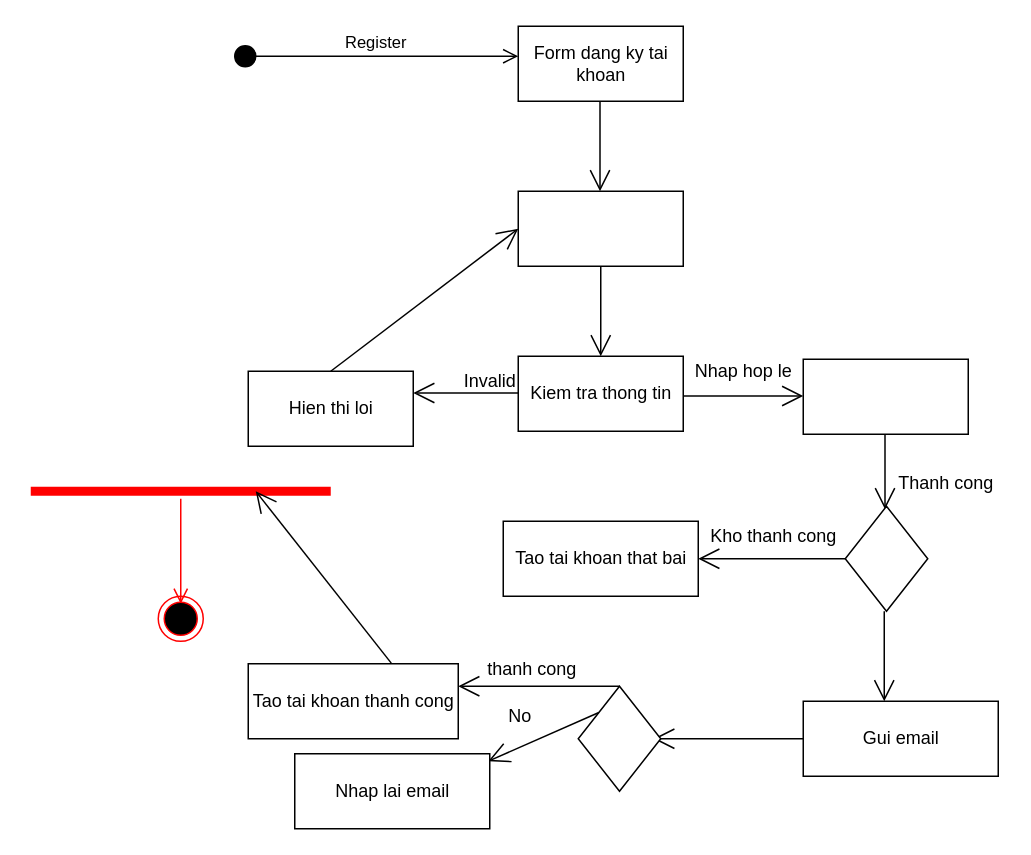
Image size: 1031x855. Some labels were removed from this diagram. The shapes that lost their labels are listed below. From the top down, each one's centre as x and y in pixels, then its label:
At (x=600, y=228): "Nhap thong tin".
At (x=885, y=396): "Them tai khoan".
